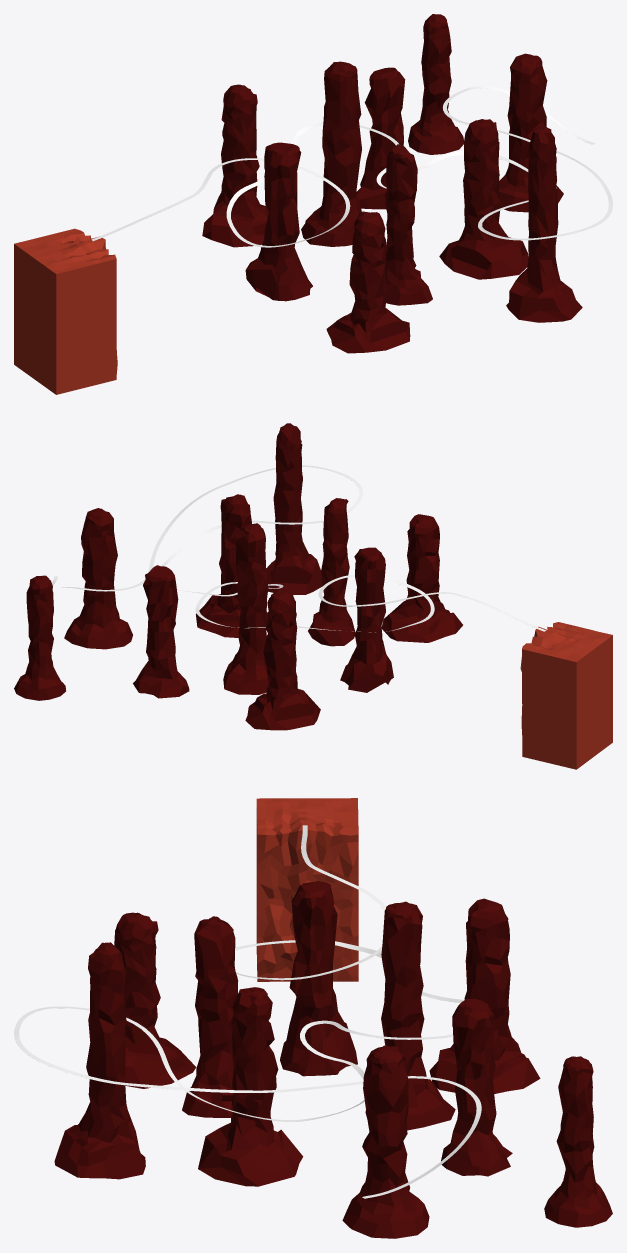
File: 03_bridge-canyon.FBX
3 views of the same model, one above another, from view 1: azimuth 30°, elevation 25°; view 2: azimuth 150°, elevation 25°; view 3: azimuth 270°, elevation 25° (orthographic). The views are drawn at different scales.
Visible parts, largest first — view 1: Box001, Capsule001, Capsule007, Capsule003, Capsule005, Box003, Capsule006, Capsule004, Capsule002, Capsule008, Box002, Line001; view 2: Box001, Capsule005, Capsule007, Capsule003, Capsule002, Capsule006, Box003, Box002, Capsule004, Capsule008, Capsule001, Line001; view 3: Box001, Capsule007, Capsule001, Capsule002, Box003, Capsule003, Capsule004, Capsule005, Box002, Capsule006, Capsule008, Line001.
Boxes of the visible parts, box(x1,y1,x2,y2) form: Box001: box(14, 228, 117, 394); Capsule001: box(439, 119, 528, 279); Capsule007: box(506, 126, 582, 322); Capsule003: box(301, 61, 361, 246); Capsule005: box(202, 84, 268, 247); Box003: box(245, 142, 312, 301); Capsule006: box(326, 211, 410, 353); Capsule004: box(385, 144, 432, 305); Capsule002: box(498, 53, 563, 212); Capsule008: box(408, 14, 463, 154); Box002: box(356, 67, 405, 209); Line001: box(91, 86, 612, 247); Box001: box(520, 622, 612, 769); Capsule005: box(245, 589, 320, 730); Capsule007: box(266, 423, 322, 594); Capsule003: box(223, 523, 268, 694); Capsule002: box(64, 508, 132, 649); Capsule006: box(381, 514, 462, 642); Box003: box(340, 547, 393, 692); Box002: box(133, 565, 189, 698); Capsule004: box(308, 498, 355, 646); Capsule008: box(14, 575, 65, 700); Capsule001: box(195, 494, 267, 637); Line001: box(51, 465, 546, 632); Box001: box(256, 798, 358, 981); Capsule007: box(54, 942, 145, 1179); Capsule001: box(198, 987, 303, 1186); Capsule002: box(342, 1045, 429, 1238); Box003: box(280, 881, 357, 1076); Capsule003: box(381, 901, 455, 1130); Capsule004: box(182, 916, 238, 1117); Capsule005: box(429, 898, 540, 1093); Box002: box(441, 998, 512, 1176); Capsule006: box(114, 912, 196, 1088); Capsule008: box(544, 1056, 612, 1227); Line001: box(14, 825, 481, 1198).
Bounding box in the file's own units: 48034 × 16407 × 35028.
